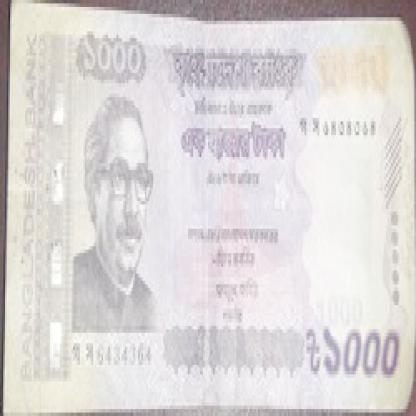One Thousand taka: (303, 322, 403, 385), (75, 35, 146, 86)
